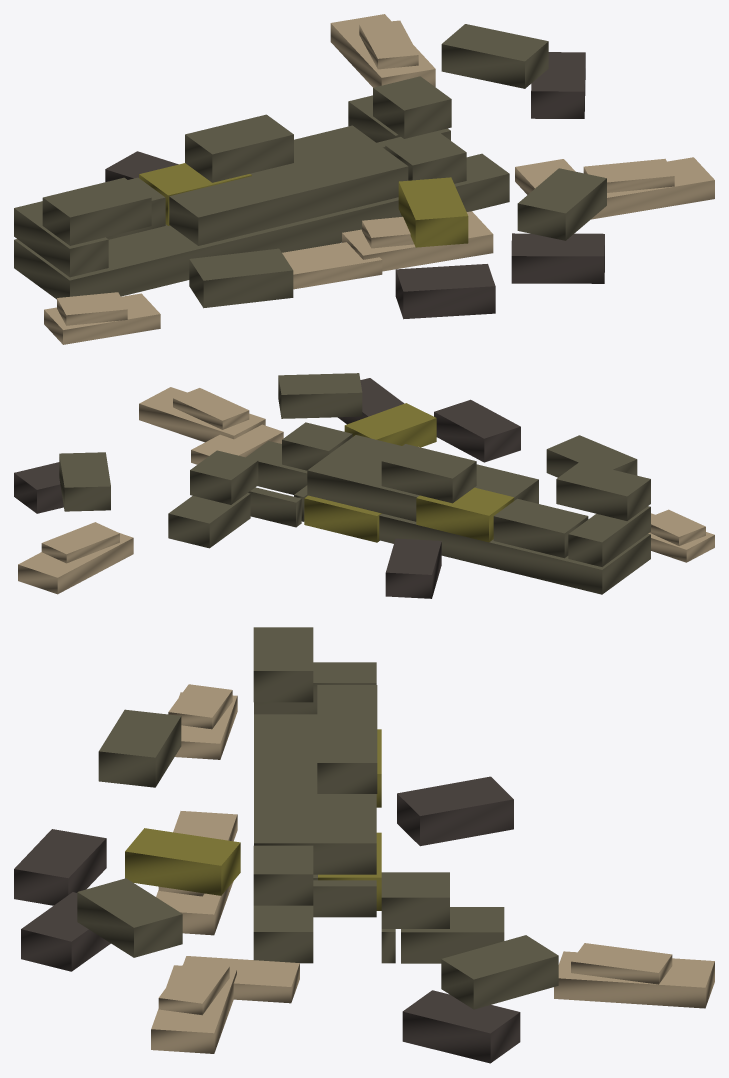
Rendered from SM_SacosRemateEspejo_v2_Irregular_e2_MuyDanado_LOD1.fbx.
3 renders of one model, top to bottom at view 1: azimuth 30°, elevation 25°; view 2: azimuth 150°, elevation 25°; view 3: azimuth 270°, elevation 25°, orthographic. The views are drawn at different scales.
Parts seen in each view (by area): view 1: SM_sacos_piezas_v30_LOD1; view 2: SM_sacos_piezas_v30_LOD1; view 3: SM_sacos_piezas_v30_LOD1.
Boxes of the visible parts, box(x1,y1,x2,y2) form: SM_sacos_piezas_v30_LOD1: box(14, 14, 714, 344); SM_sacos_piezas_v30_LOD1: box(14, 373, 714, 598); SM_sacos_piezas_v30_LOD1: box(14, 627, 714, 1063).
Bounding box in the file's own units: 6.58 × 0.885 × 5.49.
